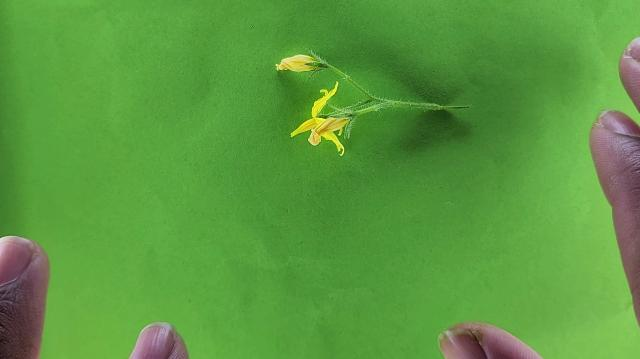Anthesis: (288, 81, 349, 155), (273, 53, 332, 81)
